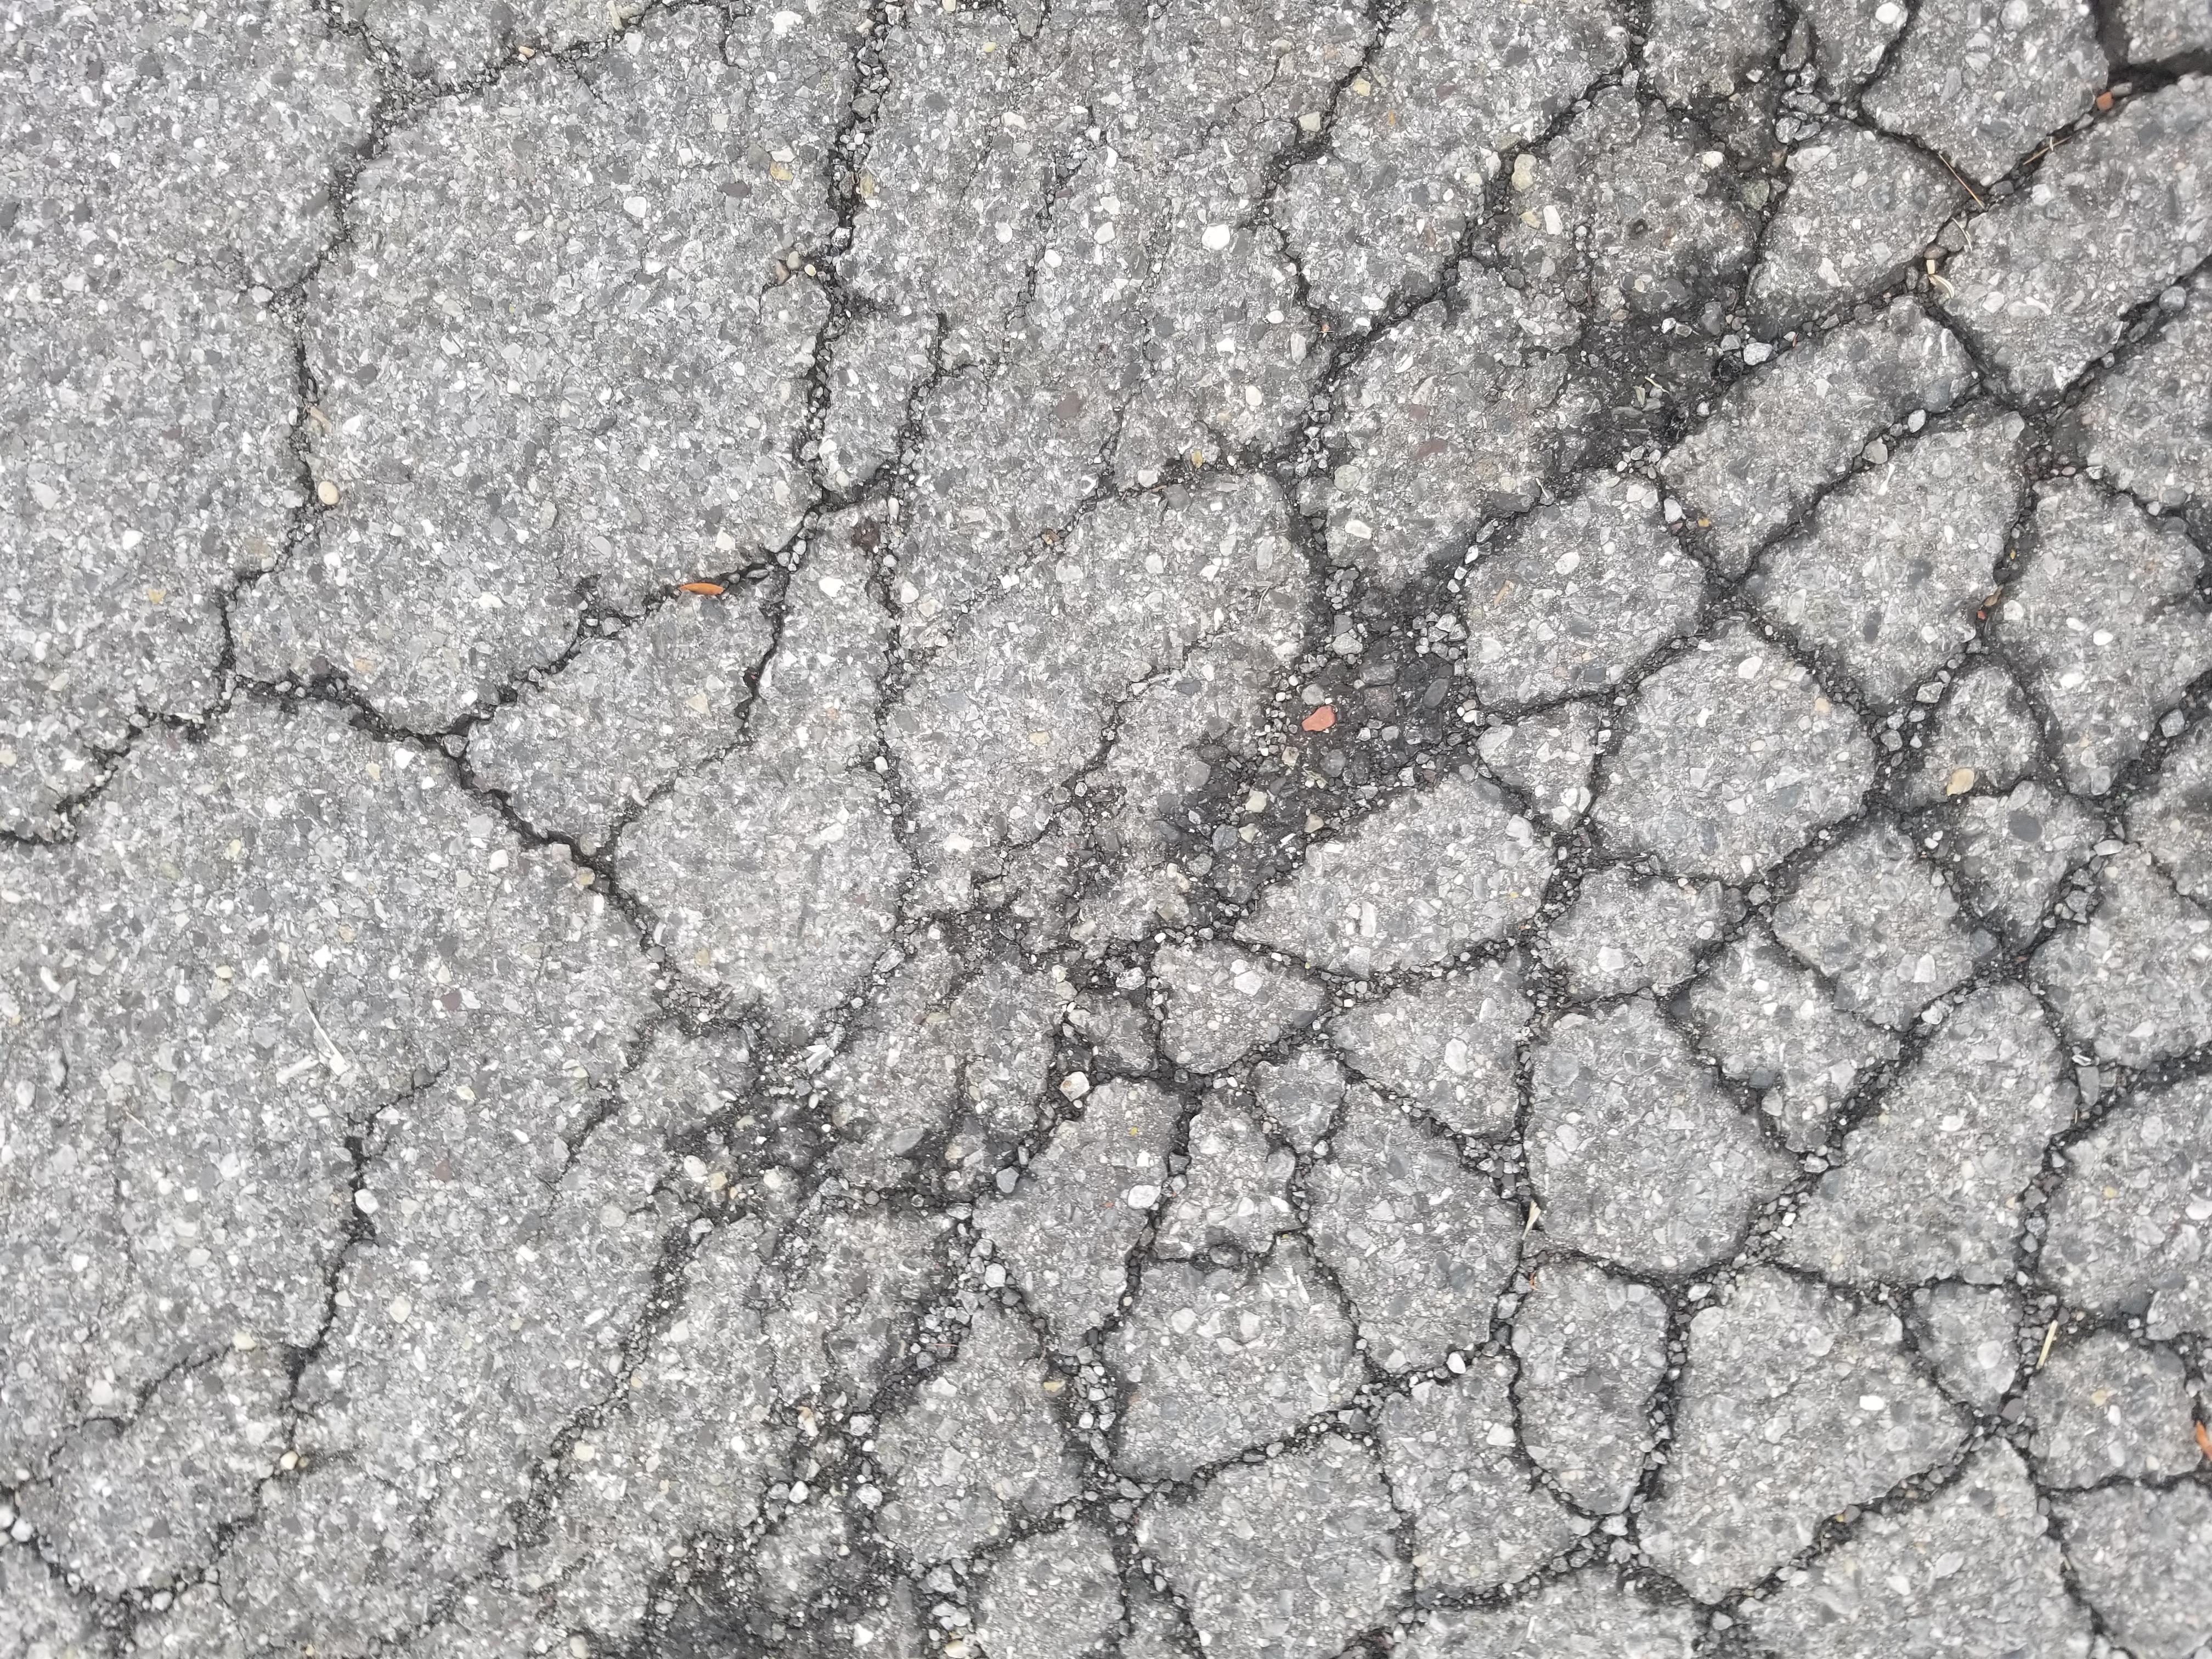alligator-crack: (30, 12, 2191, 1659)
